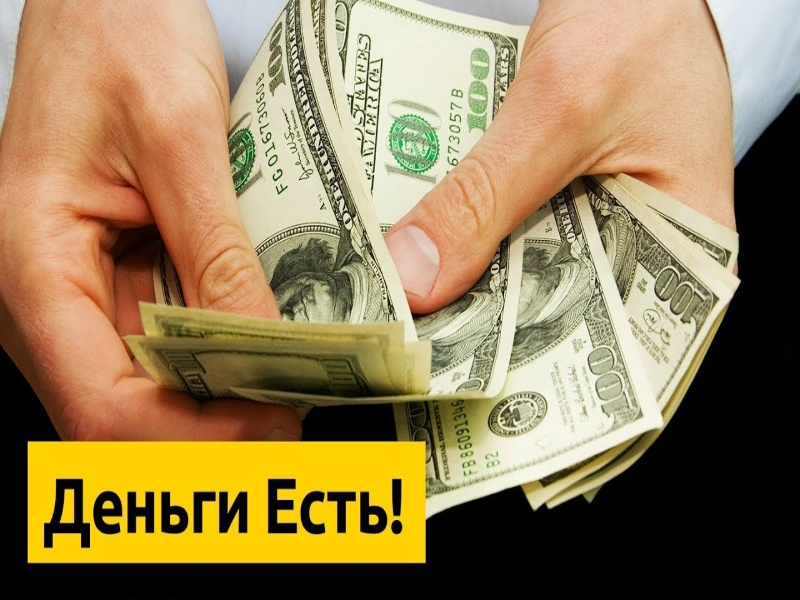cash: (130, 1, 738, 518)
